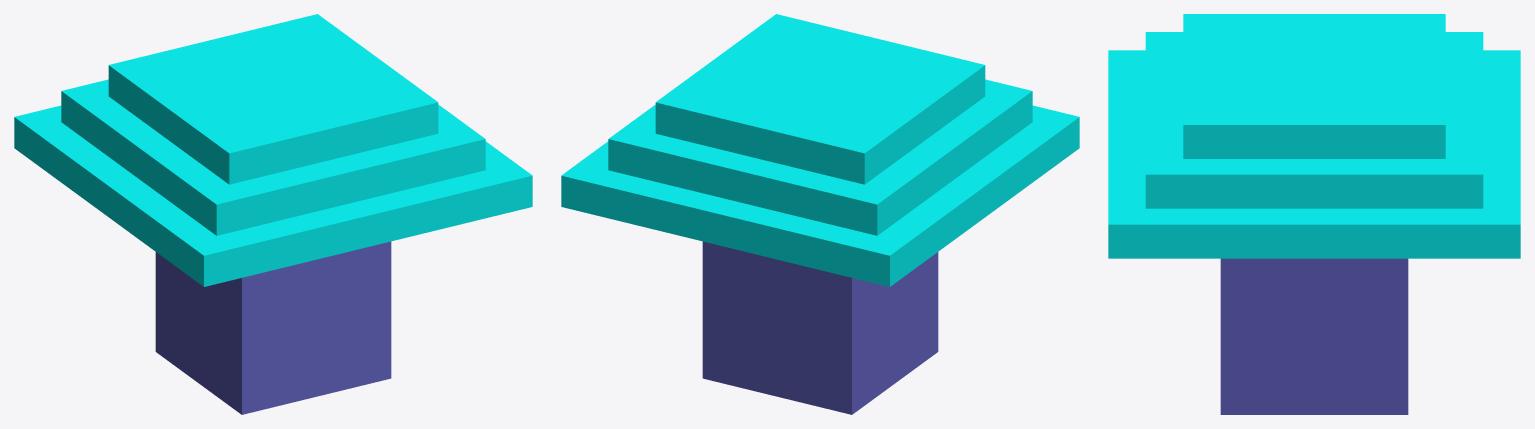
Rendered from CrystalShroom_Small.dae.
3 renders of one model, left to right at view 1: azimuth 30°, elevation 25°; view 2: azimuth 150°, elevation 25°; view 3: azimuth 270°, elevation 25°, orthographic. The views are drawn at different scales.
Visible parts, largest first — view 1: crystalshroom_small.merged; view 2: crystalshroom_small.merged; view 3: crystalshroom_small.merged.
Part boxes in pixels (x1,y1,x2,y2): crystalshroom_small.merged: (14,14,532,414); crystalshroom_small.merged: (561,14,1079,414); crystalshroom_small.merged: (1108,14,1520,414).
Size of the model in its own units: 1.1 by 0.9 by 1.1.
1 material, 1 textured.
